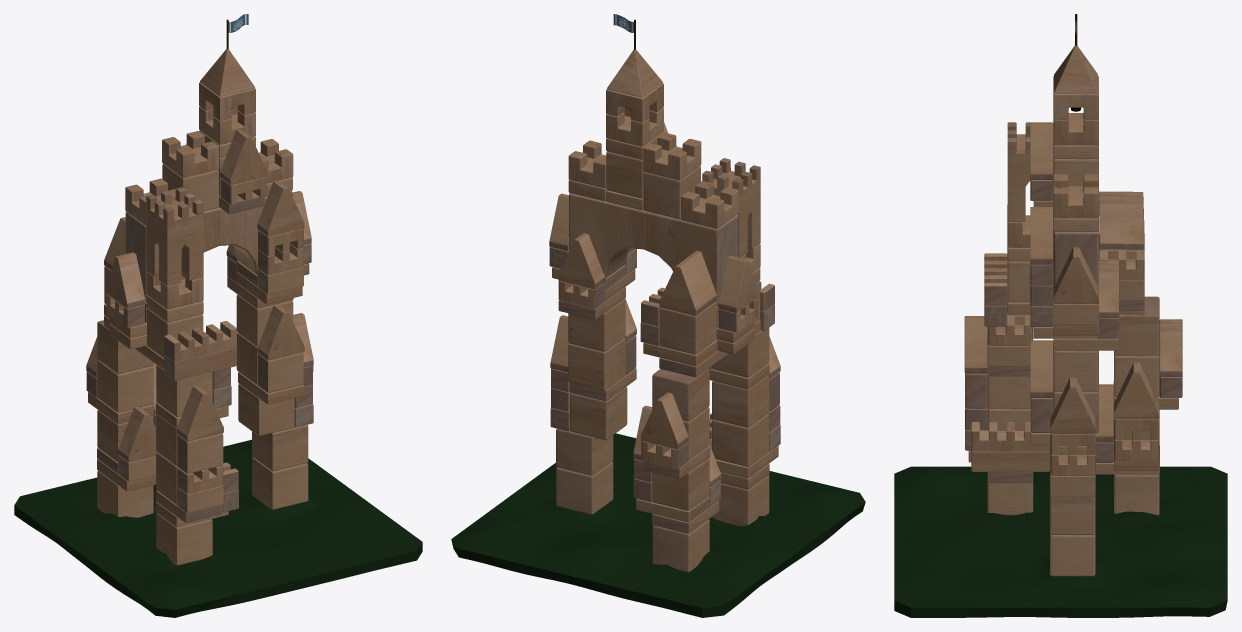
The model's file is castle.obj.
3 views of the same model, side by side, from view 1: azimuth 30°, elevation 25°; view 2: azimuth 150°, elevation 25°; view 3: azimuth 270°, elevation 25° (orthographic). The views are drawn at different scales.
Parts seen in each view (by area): view 1: Castle_and_ground pPlane2, Castle_and_ground pCube115, Castle_and_ground pCube102, Castle_and_ground pCube60, Castle_and_ground pCube90, Castle_and_ground pCube37, Castle_and_ground pCube61, Castle_and_ground pCube132, Castle_and_ground pCube96, Castle_and_ground pCube64, Castle_and_ground pCube79, Castle_and_ground pCube68 (+40 smaller); view 2: Castle_and_ground pPlane2, Castle_and_ground pCube102, Castle_and_ground pCube115, Castle_and_ground pCube107, Castle_and_ground pCube60, Castle_and_ground pCube70, Castle_and_ground pCube49, Castle_and_ground pCube106, Castle_and_ground pCube64, Castle_and_ground pCube50, Castle_and_ground pCube79, Castle_and_ground pCube61 (+34 smaller); view 3: Castle_and_ground pPlane2, Castle_and_ground pCube107, Castle_and_ground pCube115, Castle_and_ground pCube91, Castle_and_ground pCube60, Castle_and_ground pCube133, Castle_and_ground pCube86, pCube66 Castle_and_ground, Castle_and_ground pCube119, Castle_and_ground pCube79, Castle_and_ground pCube61, Castle_and_ground pCube71 (+46 smaller).
Part boxes in pixels (x1,y1,x2,y2): Castle_and_ground pPlane2: (14,439,422,617); Castle_and_ground pCube115: (146,187,203,285); Castle_and_ground pCube102: (125,190,292,301); Castle_and_ground pCube60: (252,457,308,509); Castle_and_ground pCube90: (97,360,153,412); Castle_and_ground pCube37: (156,513,212,565); Castle_and_ground pCube61: (252,424,308,470); Castle_and_ground pCube132: (162,131,219,177); Castle_and_ground pCube96: (164,321,236,361); Castle_and_ground pCube64: (238,384,294,435); Castle_and_ground pCube79: (97,470,153,517); Castle_and_ground pCube68: (257,304,304,360); Castle_and_ground pPlane2: (451,433,865,617); Castle_and_ground pCube102: (569,193,738,306); Castle_and_ground pCube115: (702,158,760,257); Castle_and_ground pCube107: (659,250,716,315); Castle_and_ground pCube60: (556,461,613,514); Castle_and_ground pCube70: (568,337,625,390); Castle_and_ground pCube49: (712,413,769,466); Castle_and_ground pCube106: (659,301,716,354); Castle_and_ground pCube64: (570,387,627,439); Castle_and_ground pCube50: (712,375,769,427); Castle_and_ground pCube79: (652,519,709,572); Castle_and_ground pCube61: (556,428,613,475); Castle_and_ground pPlane2: (894,466,1227,617); Castle_and_ground pCube107: (1099,191,1144,249); Castle_and_ground pCube115: (1007,122,1053,221); Castle_and_ground pCube91: (1114,296,1159,355); Castle_and_ground pCube60: (1050,533,1095,576); Castle_and_ground pCube133: (1053,174,1098,218); Castle_and_ground pCube86: (1113,362,1159,419); pCube66 Castle_and_ground: (1050,377,1095,434); Castle_and_ground pCube119: (1053,247,1098,303); Castle_and_ground pCube79: (1114,474,1159,515); Castle_and_ground pCube61: (1050,495,1095,534); Castle_and_ground pCube71: (1053,350,1098,391).
Size of the model in its own units: 25.53 by 45.9 by 25.53.
20 materials, 16 textured.
